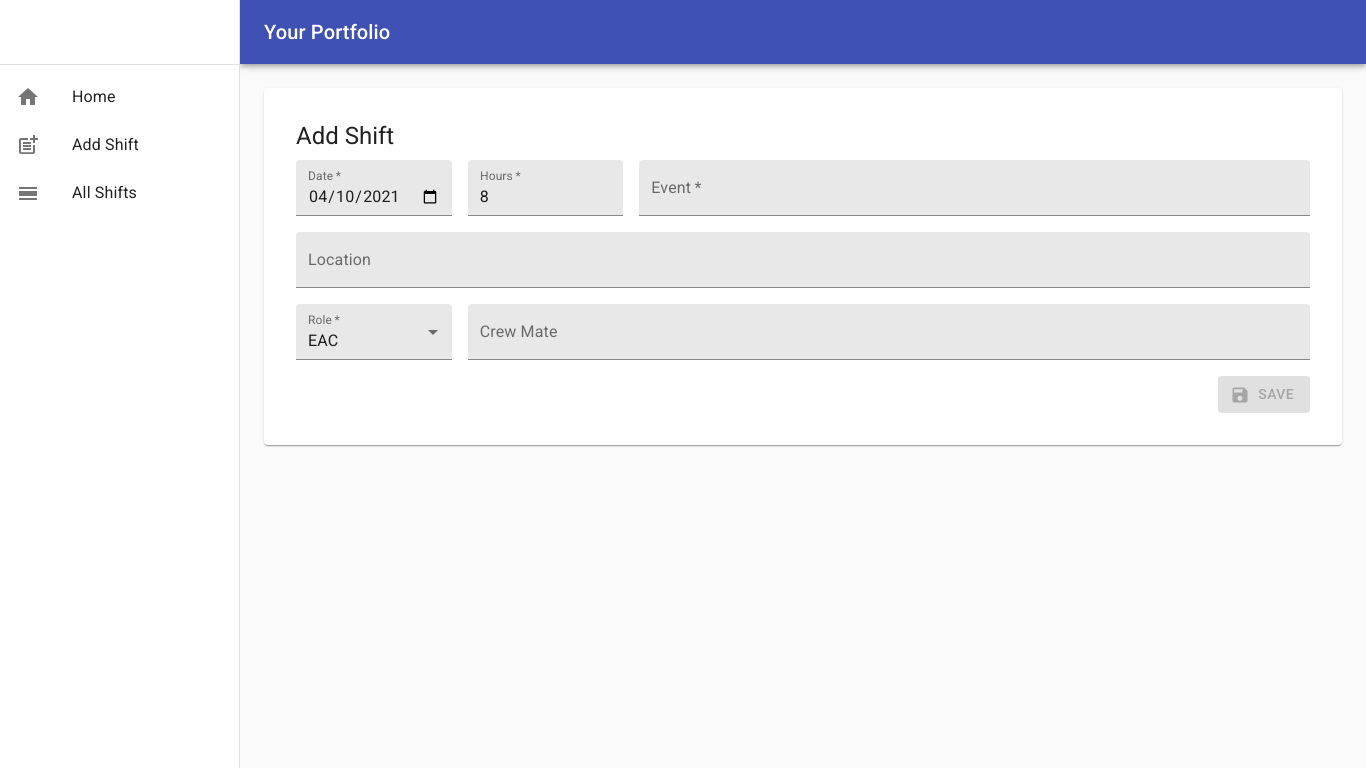
Test: displays an invalid duration properly
The image size is (1366, 768).
Clear the number field labelled "Hours" at {"x": 546, "y": 188}, box top-left (468, 160), bottom-right (623, 216)
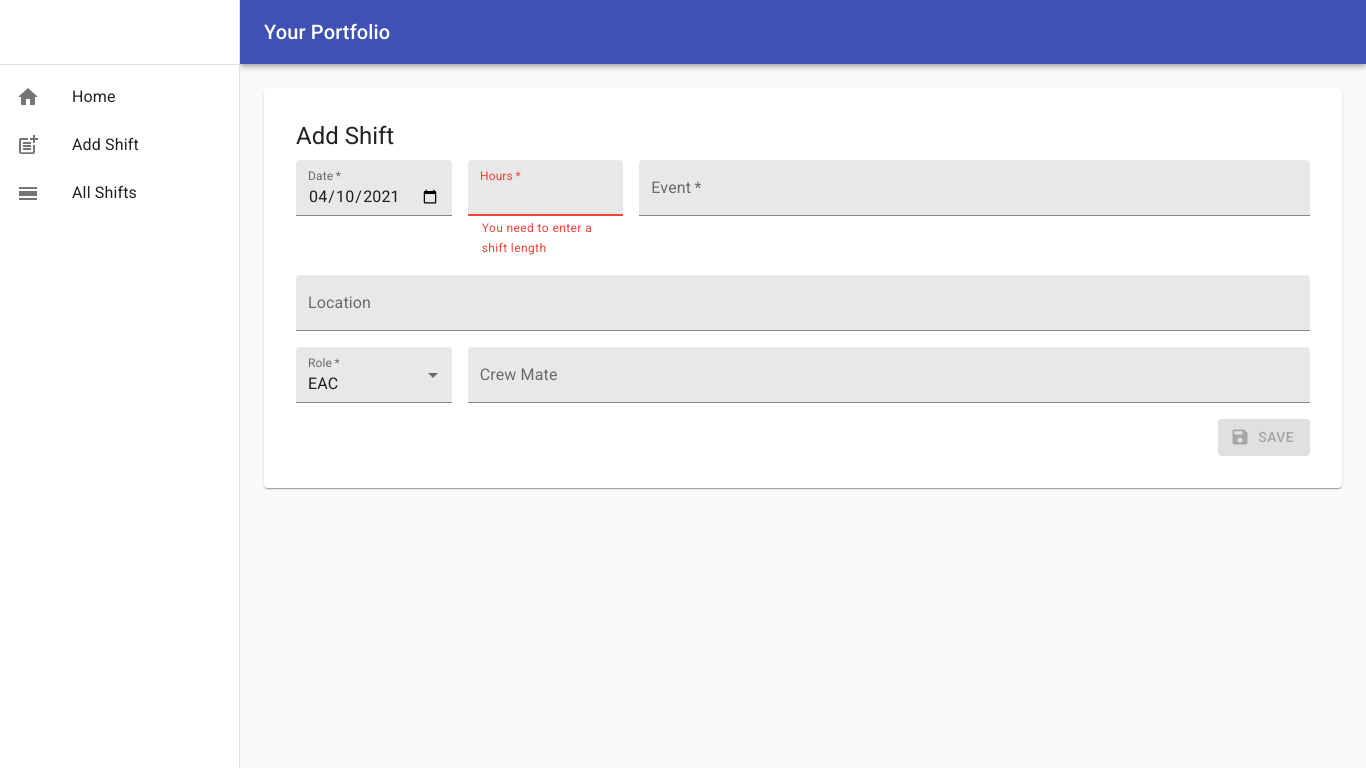
Expected: the button "Save" is disabled, top-left (1218, 419), bottom-right (1310, 456)
Result: the text "You need to enter a shift length" is shown at top-left (482, 219), bottom-right (609, 259)
